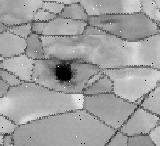good_void: (51, 62, 77, 85)
